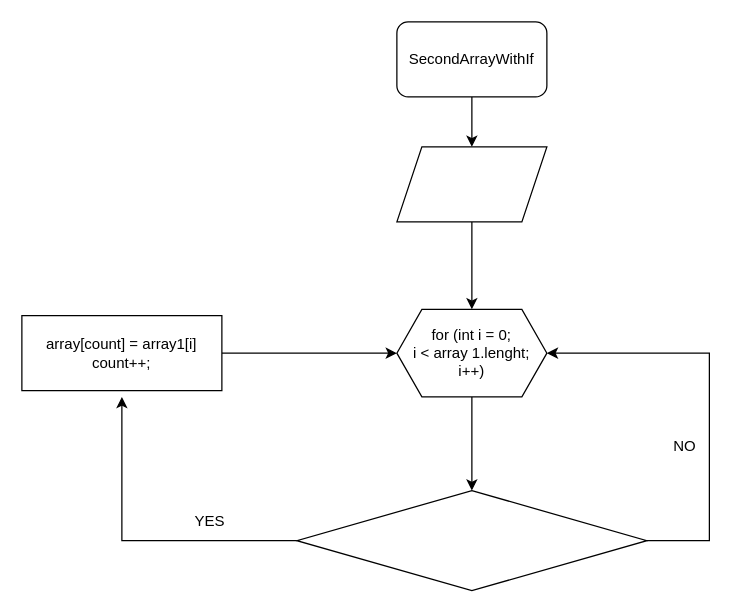
Some shapes in this 741 by 613 pixel diagram are drawn without their labels. The shapes that lost their labels are listed below. From the top down, each one's box as (x1, y1, x2, y2) in pixels, then its label:
(396, 146, 547, 222): string[] array1 string array2 int count = 0
(296, 489, 647, 591): if (array 1 [i].lengthv <=3)
